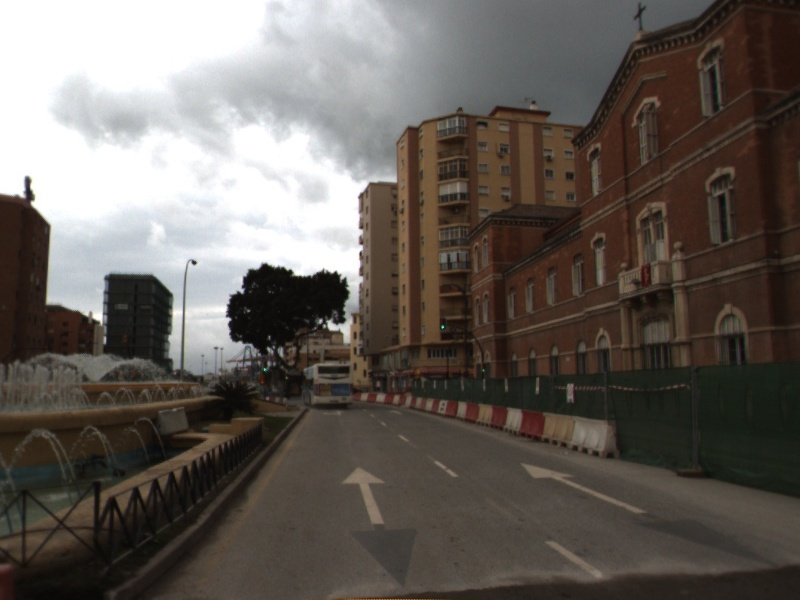STRAIGHT: (518, 460, 652, 515), (340, 463, 388, 526)
